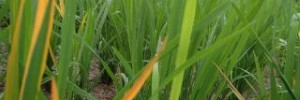RiceTungro: (8, 2, 52, 100), (122, 57, 160, 100)
